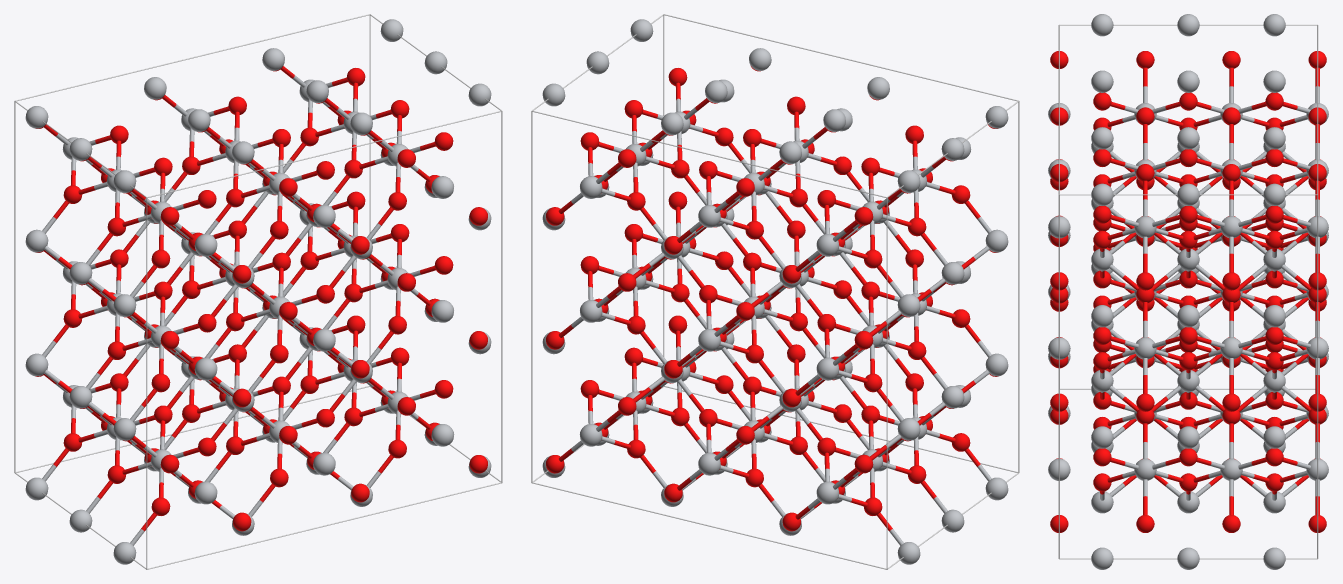
The model's file is rutile-scientific-gloss-1.glb.
3 views of the same model, side by side, from view 1: azimuth 30°, elevation 25°; view 2: azimuth 150°, elevation 25°; view 3: azimuth 270°, elevation 25° (orthographic). The views are drawn at different scales.
Size of the model in its own units: 14.57 by 14.57 by 9.65.
